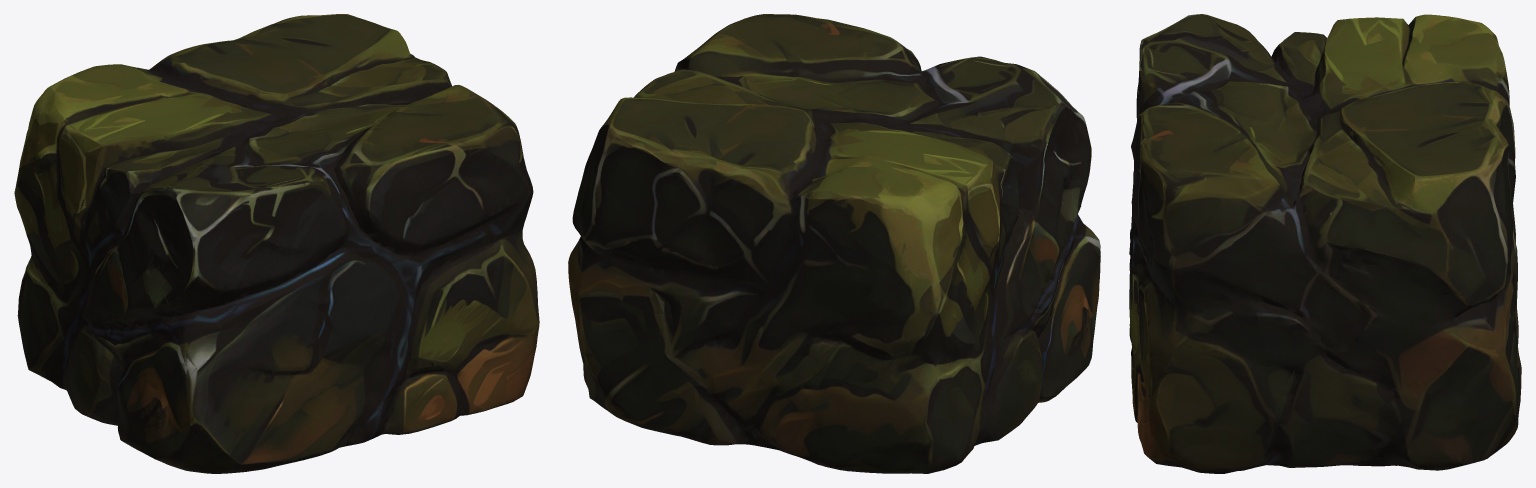
Rendered from item_dark_iron_ore.glb.
3 renders of one model, left to right at view 1: azimuth 30°, elevation 25°; view 2: azimuth 150°, elevation 25°; view 3: azimuth 270°, elevation 25°, orthographic. The views are drawn at different scales.
Visible parts, largest first — view 1: item_dark_iron_ore; view 2: item_dark_iron_ore; view 3: item_dark_iron_ore.
Part boxes in pixels (left/top/right/bottom): item_dark_iron_ore: left=14, top=14, right=539, bottom=473; item_dark_iron_ore: left=568, top=14, right=1100, bottom=473; item_dark_iron_ore: left=1129, top=14, right=1521, bottom=473.
Size of the model in its own units: 0.18 by 0.1255 by 0.1525.
1 material, 1 textured.
